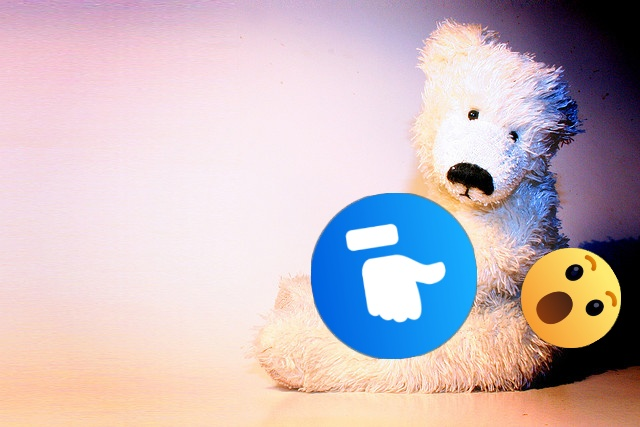like: (311, 193, 477, 359)
wow: (521, 248, 621, 348)
